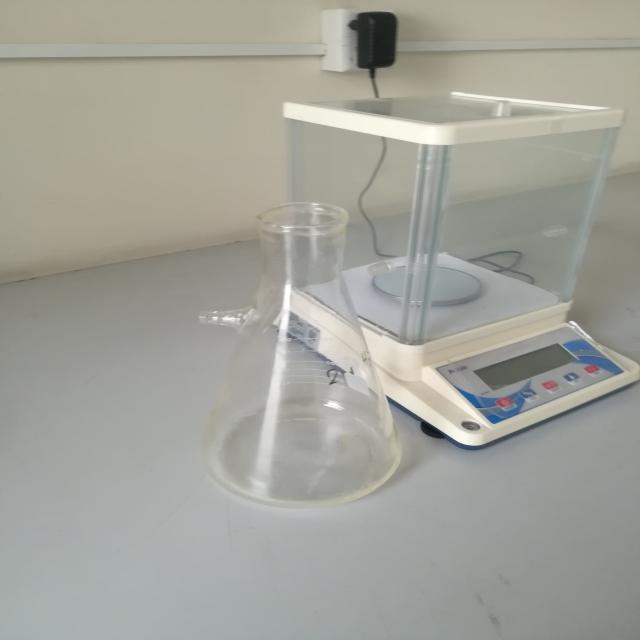Conical_Flask: (166, 176, 437, 529)
